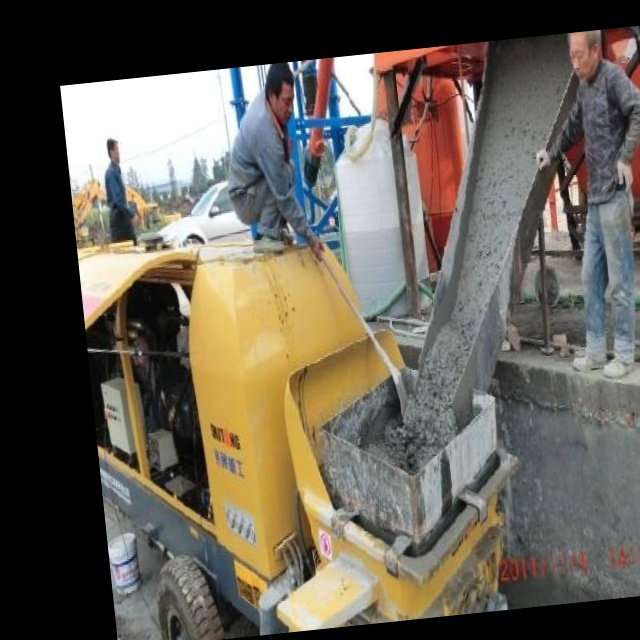Sin_Casco_Mascarrilla: (263, 62, 300, 126)
